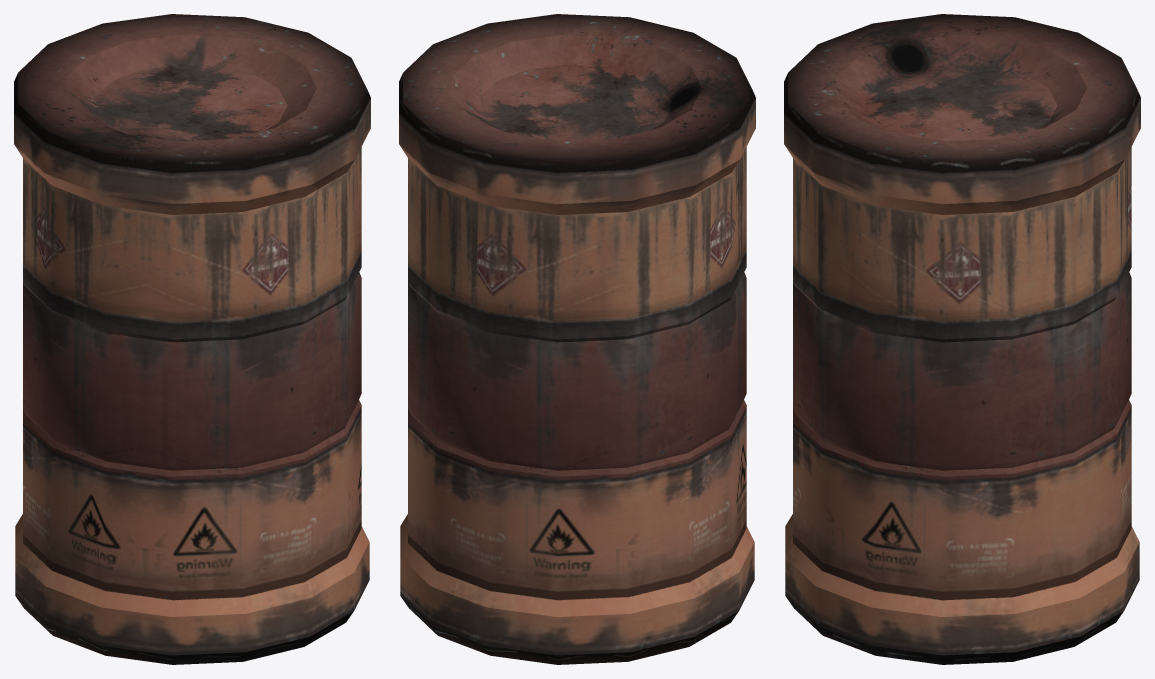
Rendered from Oil.fbx.
The picture shows the model from 3 angles, left to right: view 1: azimuth 30°, elevation 25°; view 2: azimuth 150°, elevation 25°; view 3: azimuth 270°, elevation 25°; orthographic projection.
Parts seen in each view (by area): view 1: Cylinder_002_002; view 2: Cylinder_002_002; view 3: Cylinder_002_002.
Part boxes in pixels (x1=…): Cylinder_002_002: x1=14, y1=14, x2=370, y2=664; Cylinder_002_002: x1=399, y1=14, x2=755, y2=664; Cylinder_002_002: x1=784, y1=14, x2=1140, y2=664.
Size of the model in its own units: 0.3778 by 0.5873 by 0.3758.
